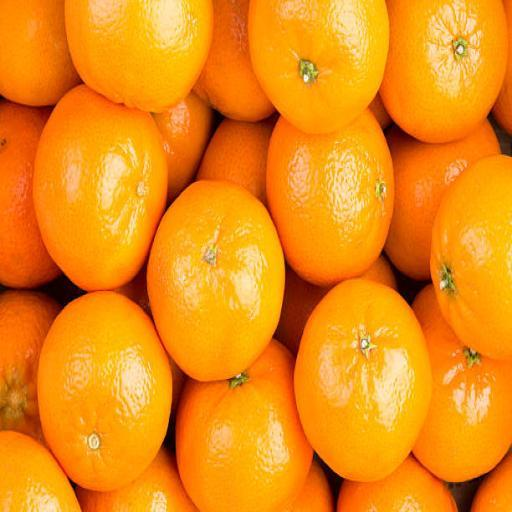orange: (146, 176, 289, 378), (35, 287, 174, 493), (31, 85, 167, 292), (295, 282, 433, 483), (173, 338, 314, 511), (262, 117, 395, 287), (249, 0, 392, 135), (379, 0, 511, 141), (430, 156, 511, 365)
